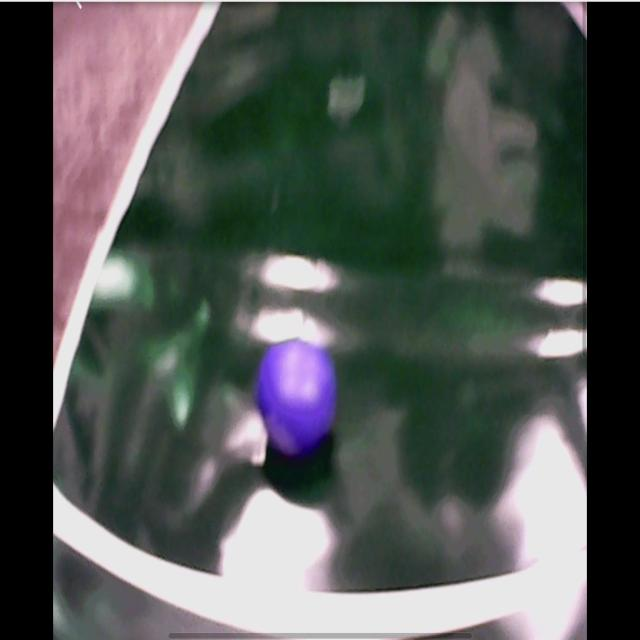ball: (258, 336, 334, 453)
